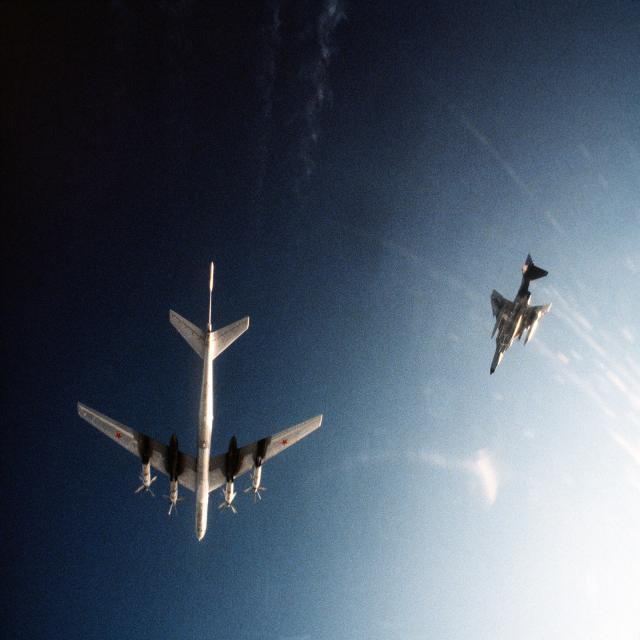MIL_Plane: (77, 261, 322, 541), (489, 253, 552, 378)
